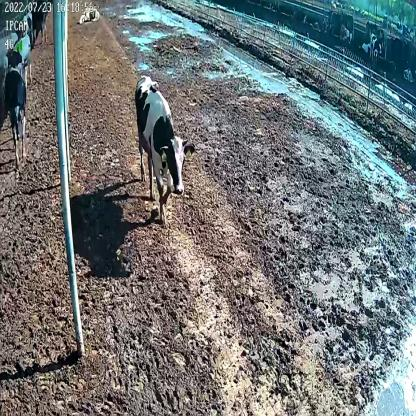cow: (134, 72, 195, 224), (3, 48, 27, 164), (79, 4, 100, 26)
